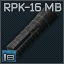RPK-16 5.45x39 muzzle brake & compensator: (0, 0, 64, 64)
